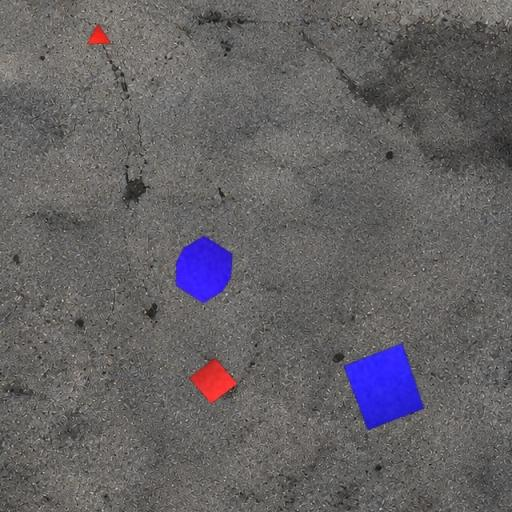BLUE_SQUARE: (343, 342, 425, 432)
RED_SQUARE: (188, 357, 238, 405)
